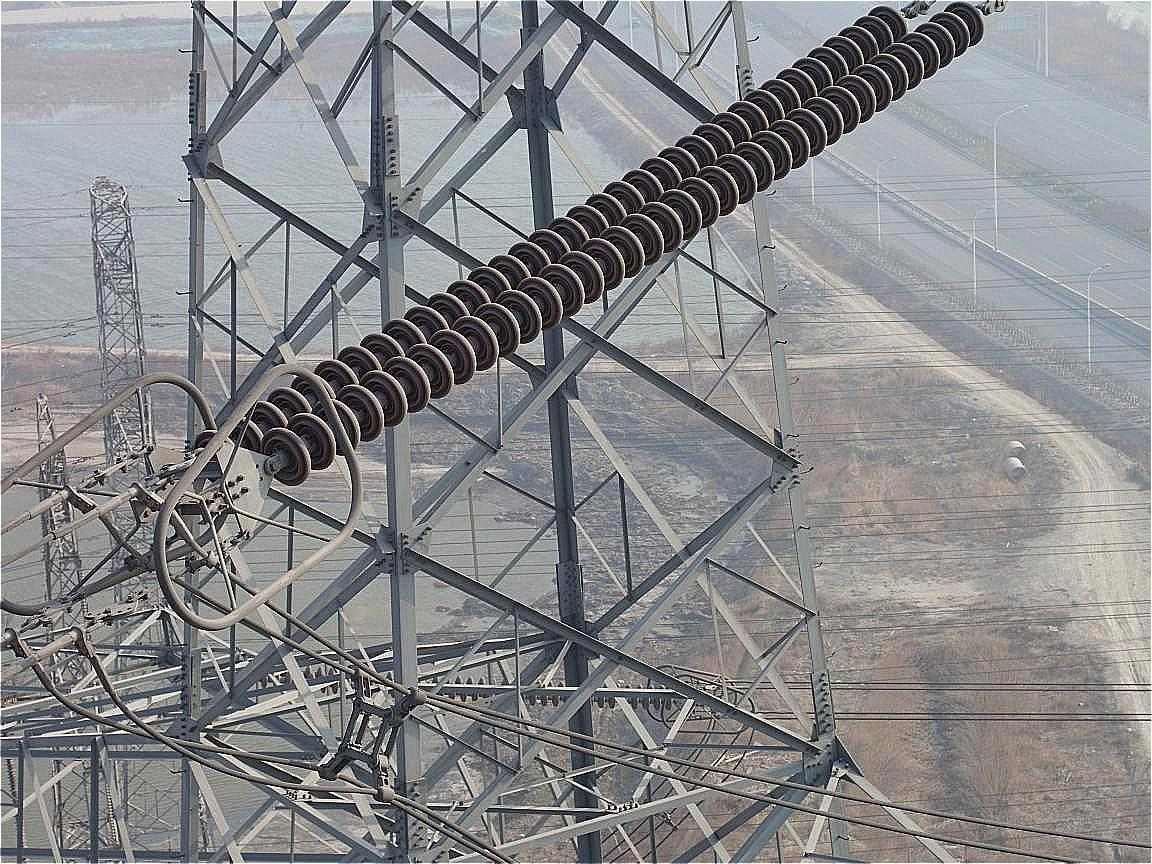insultor1: (213, 1, 1022, 480)
